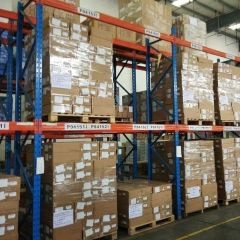box_label: (52, 211, 77, 227)
boxl: (120, 1, 173, 28), (54, 39, 93, 70), (51, 89, 92, 113), (52, 143, 103, 161), (52, 163, 93, 183), (124, 191, 150, 221), (150, 185, 172, 215), (52, 186, 88, 202), (92, 73, 115, 98), (4, 171, 20, 200), (93, 20, 120, 35), (93, 98, 115, 114), (183, 164, 203, 179), (218, 62, 240, 75), (186, 180, 201, 199), (181, 96, 198, 110)
